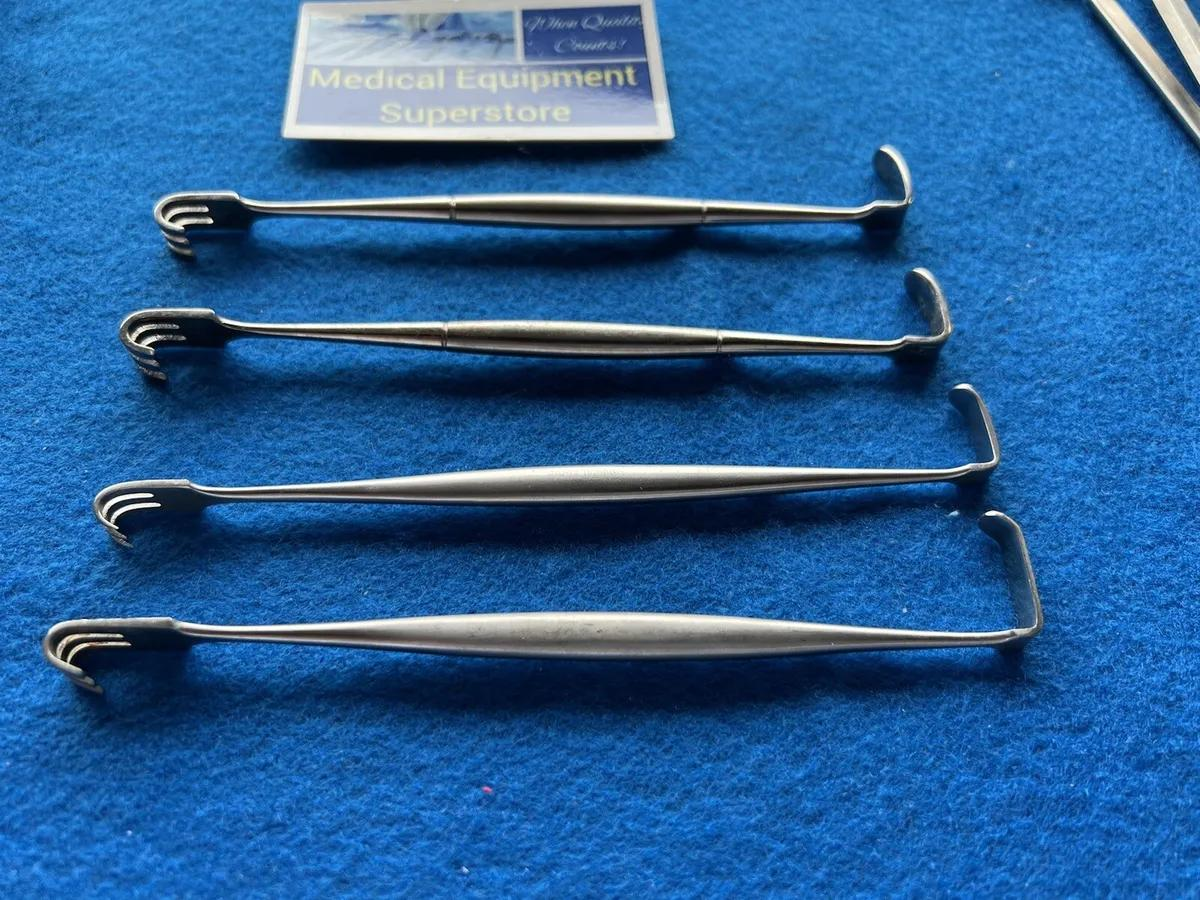Senn Retractor: (41, 507, 1057, 719), (80, 366, 1011, 581), (110, 251, 969, 411), (130, 137, 931, 254)
